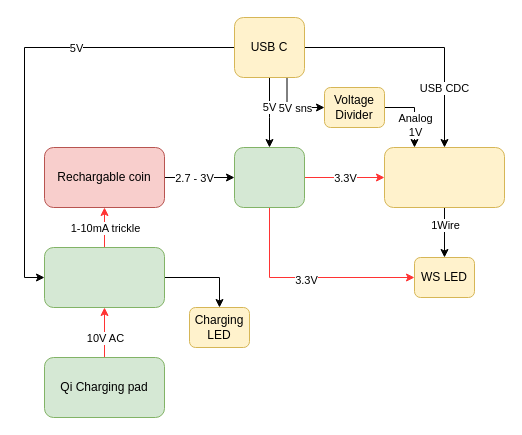
The diagram is 522 pixels wide and 435 high, and some of its shapes have lost their labels. The centre of each missing label's shape, as x and y in pixels:
Buck-Boost (3.3V): point (269, 177)
Charging regulator: point (104, 277)
ESP32 C3: point (444, 177)
